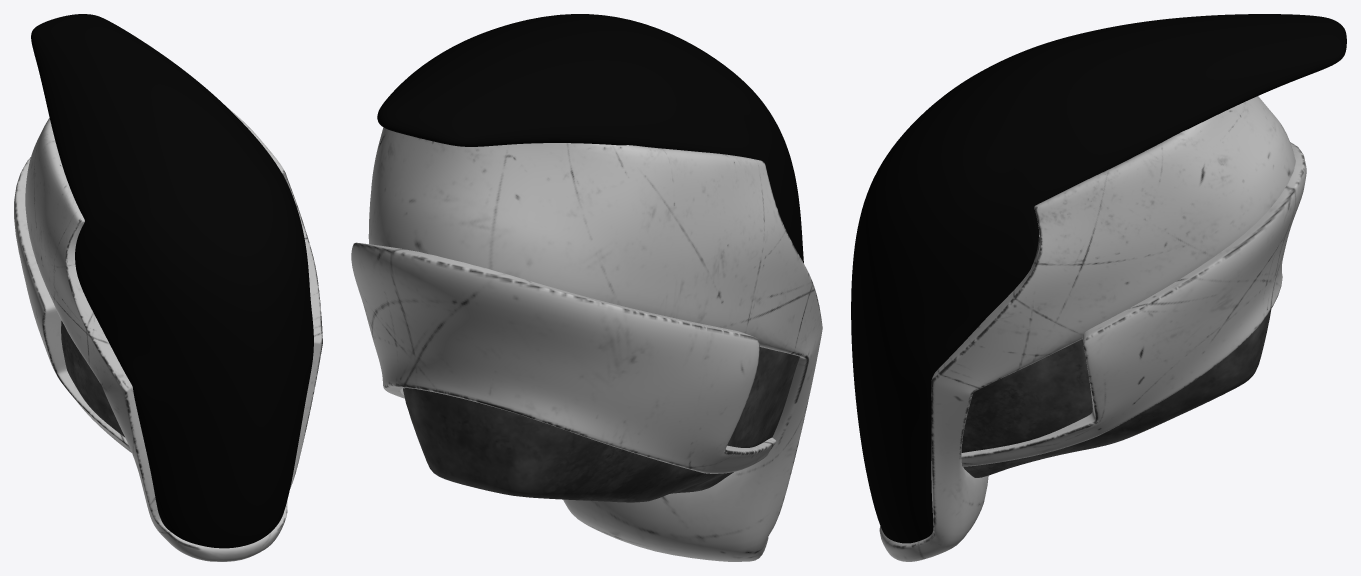
The model's file is helmet.fbx.
3 renders of one model, left to right at view 1: azimuth 30°, elevation 25°; view 2: azimuth 150°, elevation 25°; view 3: azimuth 270°, elevation 25°, orthographic. The views are drawn at different scales.
Parts seen in each view (by area): view 1: helmet.002; view 2: helmet.002; view 3: helmet.002.
Part boxes in pixels (bbox=[...]): helmet.002: bbox=[14, 14, 322, 561]; helmet.002: bbox=[351, 14, 822, 561]; helmet.002: bbox=[851, 14, 1346, 561].
Size of the model in its own units: 66.09 by 111 by 95.37.
3 materials, 2 textured.
